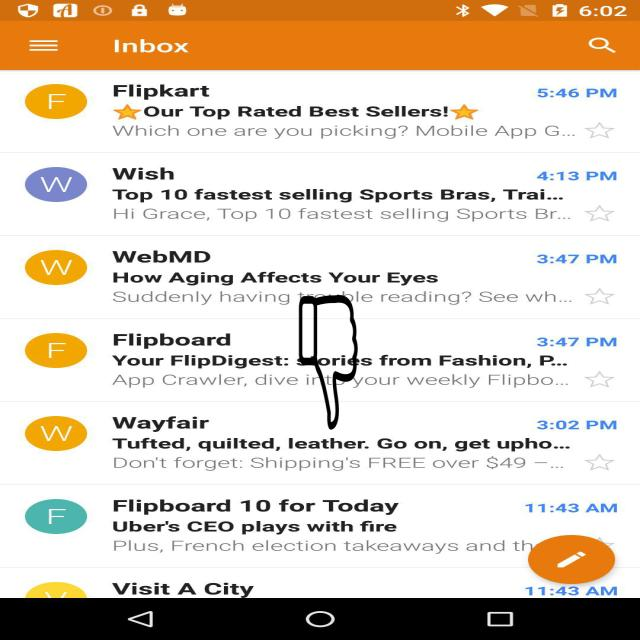obstruction: (298, 295, 359, 430)
